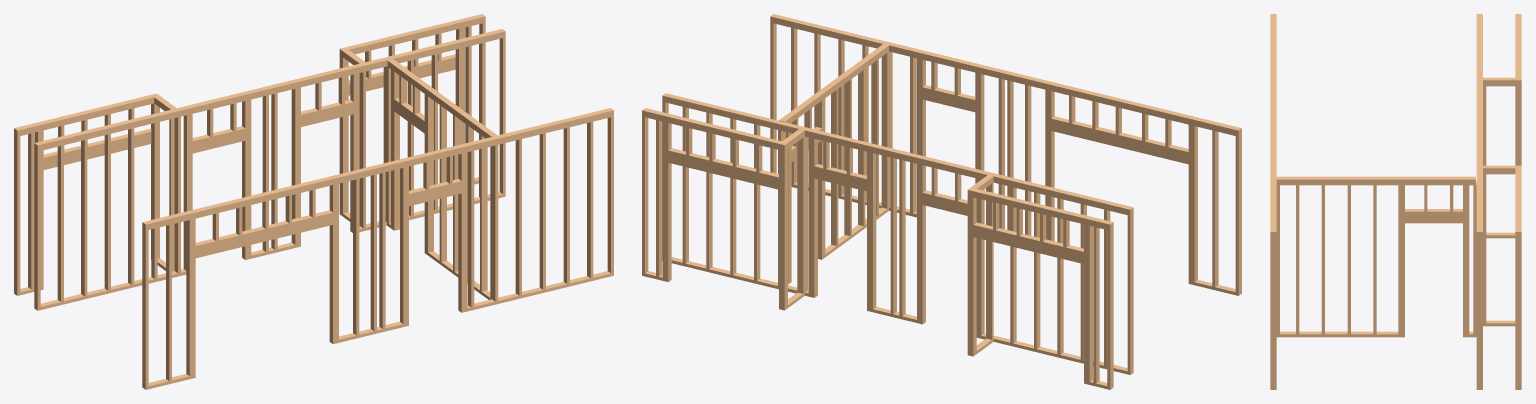
Rendered from Non-Structural Wood WallsDone.dae.
3 views of the same model, side by side, from view 1: azimuth 30°, elevation 25°; view 2: azimuth 150°, elevation 25°; view 3: azimuth 270°, elevation 25° (orthographic). The views are drawn at different scales.
Visible parts, largest first — view 1: group_15 (×16), group_1 (×18), group_41 (×6), group_40 (×5), group_18, group_4, group_31 (×2), group_17, group_3, group_29 (×2), group_30 (×2), group_43 (+7 smaller); view 2: group_1 (×17), group_15 (×13), group_41 (×7), group_29 (×5), group_40 (×5), group_18, group_4, group_31 (×2), group_17, group_3, group_33 (×2), group_34 (×2) (+7 smaller); view 3: group_41 (×8), group_29 (×2), group_4, group_18, group_43, group_1, group_15, group_31 (×2), group_40 (×2), group_49, group_42, group_38 (×2) (+3 smaller).
Boxes of the visible parts, bbox=[...] form: group_15 (×16): bbox=[142, 116, 613, 386]; group_1 (×18): bbox=[34, 37, 505, 307]; group_41 (×6): bbox=[387, 66, 487, 291]; group_40 (×5): bbox=[14, 103, 174, 292]; group_18: bbox=[142, 108, 613, 227]; group_4: bbox=[34, 29, 505, 148]; group_31 (×2): bbox=[14, 14, 485, 133]; group_17: bbox=[142, 113, 613, 230]; group_3: bbox=[34, 34, 505, 151]; group_29 (×2): bbox=[339, 26, 471, 213]; group_30 (×2): bbox=[14, 19, 485, 136]; group_43: bbox=[387, 59, 497, 137]; group_1 (×17): bbox=[682, 107, 1133, 371]; group_15 (×13): bbox=[770, 22, 1241, 292]; group_41 (×7): bbox=[786, 52, 888, 281]; group_29 (×5): bbox=[642, 116, 804, 307]; group_40 (×5): bbox=[967, 183, 1113, 386]; group_18: bbox=[770, 14, 1241, 133]; group_4: bbox=[662, 93, 1133, 212]; group_31 (×2): bbox=[642, 108, 1113, 227]; group_17: bbox=[770, 19, 1241, 136]; group_3: bbox=[662, 98, 1133, 215]; group_33 (×2): bbox=[668, 153, 1083, 260]; group_34 (×2): bbox=[668, 148, 1083, 254]; group_41 (×8): bbox=[1276, 182, 1476, 334]; group_29 (×2): bbox=[1483, 174, 1521, 386]; group_4: bbox=[1476, 14, 1482, 234]; group_18: bbox=[1270, 14, 1276, 234]; group_43: bbox=[1276, 176, 1475, 182]; group_1: bbox=[1476, 238, 1482, 386]; group_15: bbox=[1270, 238, 1276, 386]; group_31 (×2): bbox=[1515, 14, 1521, 234]; group_40 (×2): bbox=[1483, 86, 1521, 165]; group_49: bbox=[1276, 331, 1404, 337]; group_42: bbox=[1276, 182, 1475, 185]; group_38 (×2): bbox=[1483, 77, 1515, 171].
Bounding box in the file's own units: 315 × 154 × 106.
